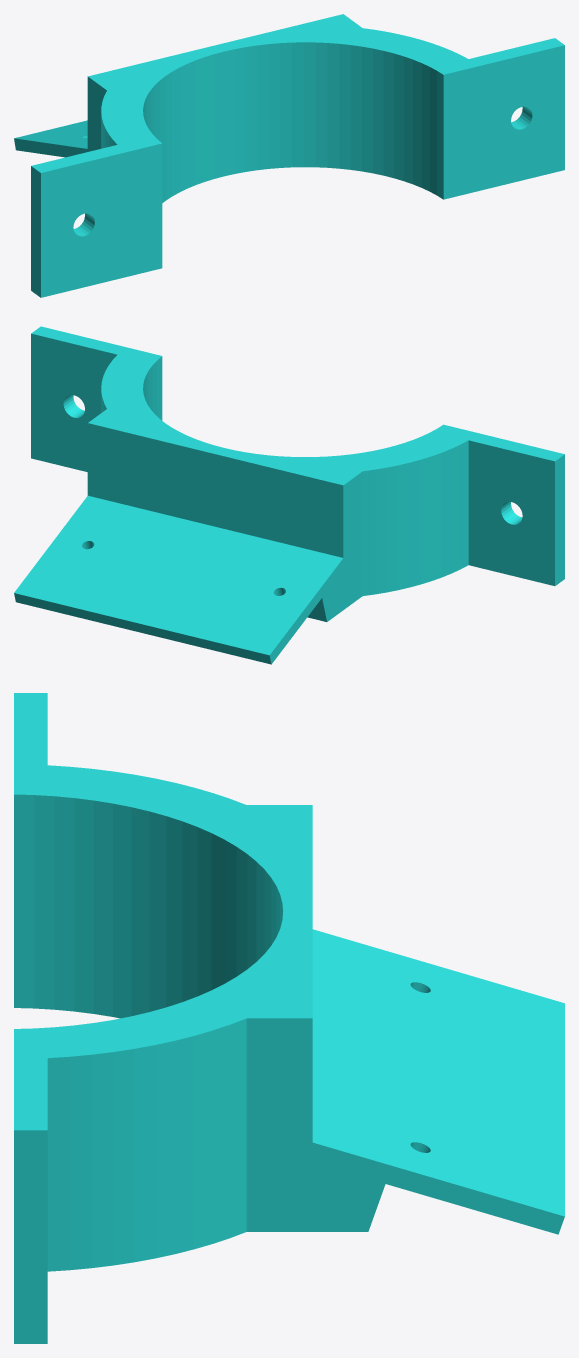
The model's file is UR3_camera_mount_upper_v4.dae.
3 renders of one model, top to bottom at view 1: azimuth 30°, elevation 25°; view 2: azimuth 150°, elevation 25°; view 3: azimuth 270°, elevation 25°, orthographic. The views are drawn at different scales.
Parts seen in each view (by area): view 1: UR3 camera maunt upper v8; view 2: UR3 camera maunt upper v8; view 3: UR3 camera maunt upper v8.
Part boxes in pixels (bbox=[...]): UR3 camera maunt upper v8: bbox=[14, 14, 564, 297]; UR3 camera maunt upper v8: bbox=[14, 326, 564, 664]; UR3 camera maunt upper v8: bbox=[14, 693, 564, 1343].
Size of the model in its own units: 0.123 by 0.0655 by 0.0284.
